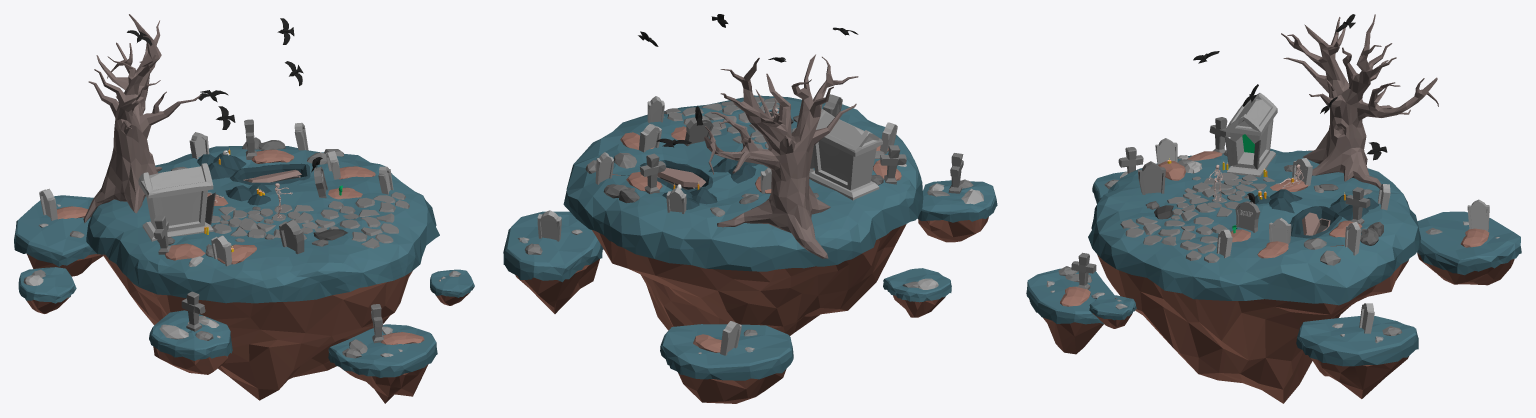
The model's file is land_58.fbx.
3 renders of one model, left to right at view 1: azimuth 30°, elevation 25°; view 2: azimuth 150°, elevation 25°; view 3: azimuth 270°, elevation 25°, orthographic. The views are drawn at different scales.
Visible parts, largest first — view 1: polySurface2999, land_58.249, polySurface3015, polySurface3001, land_58.221, polySurface3014, polySurface3013, polySurface3011, land_58.226, land_58.179, land_58.204, land_58.260 (+7 smaller); view 2: polySurface2999, land_58.249, polySurface3001, polySurface3012, land_58.221, polySurface3014, polySurface3013, land_58.179, land_58.259, land_58.150, land_58.242, land_58.192 (+7 smaller); view 3: polySurface2999, land_58.249, polySurface3012, polySurface3001, polySurface3015, land_58.221, polySurface3011, land_58.204, land_58.179, land_58.213, land_58.262, land_58.150 (+6 smaller).
Part boxes in pixels (x1,y1,x2,y2): polySurface2999: [86, 146, 439, 400]; land_58.249: [83, 14, 201, 223]; polySurface3015: [328, 324, 437, 403]; polySurface3001: [14, 195, 102, 276]; land_58.221: [138, 163, 215, 241]; polySurface3014: [149, 310, 232, 374]; polySurface3013: [18, 267, 76, 313]; polySurface3011: [430, 269, 474, 305]; land_58.226: [197, 153, 246, 179]; land_58.179: [225, 182, 271, 205]; land_58.204: [279, 219, 304, 254]; land_58.260: [181, 291, 205, 331]; polySurface2999: [563, 95, 923, 335]; land_58.249: [704, 54, 858, 258]; polySurface3001: [660, 324, 793, 403]; polySurface3012: [503, 211, 603, 313]; land_58.221: [809, 109, 882, 200]; polySurface3014: [917, 180, 997, 242]; polySurface3013: [883, 268, 951, 317]; land_58.179: [708, 158, 758, 183]; land_58.259: [537, 210, 561, 241]; land_58.150: [640, 153, 665, 194]; land_58.242: [657, 167, 705, 187]; land_58.192: [880, 145, 906, 184]; polySurface2999: [1088, 148, 1420, 403]; land_58.249: [1281, 14, 1438, 188]; polySurface3012: [1296, 316, 1418, 398]; polySurface3001: [1417, 211, 1521, 285]; polySurface3015: [1026, 268, 1113, 354]; land_58.221: [1224, 93, 1277, 177]; polySurface3011: [1089, 294, 1136, 328]; land_58.204: [1137, 161, 1165, 194]; land_58.179: [1254, 189, 1302, 213]; land_58.213: [1235, 201, 1260, 232]; land_58.262: [1467, 199, 1489, 231]; land_58.150: [1345, 187, 1370, 224].
Size of the model in its own units: 21.26 by 17.93 by 24.05.
